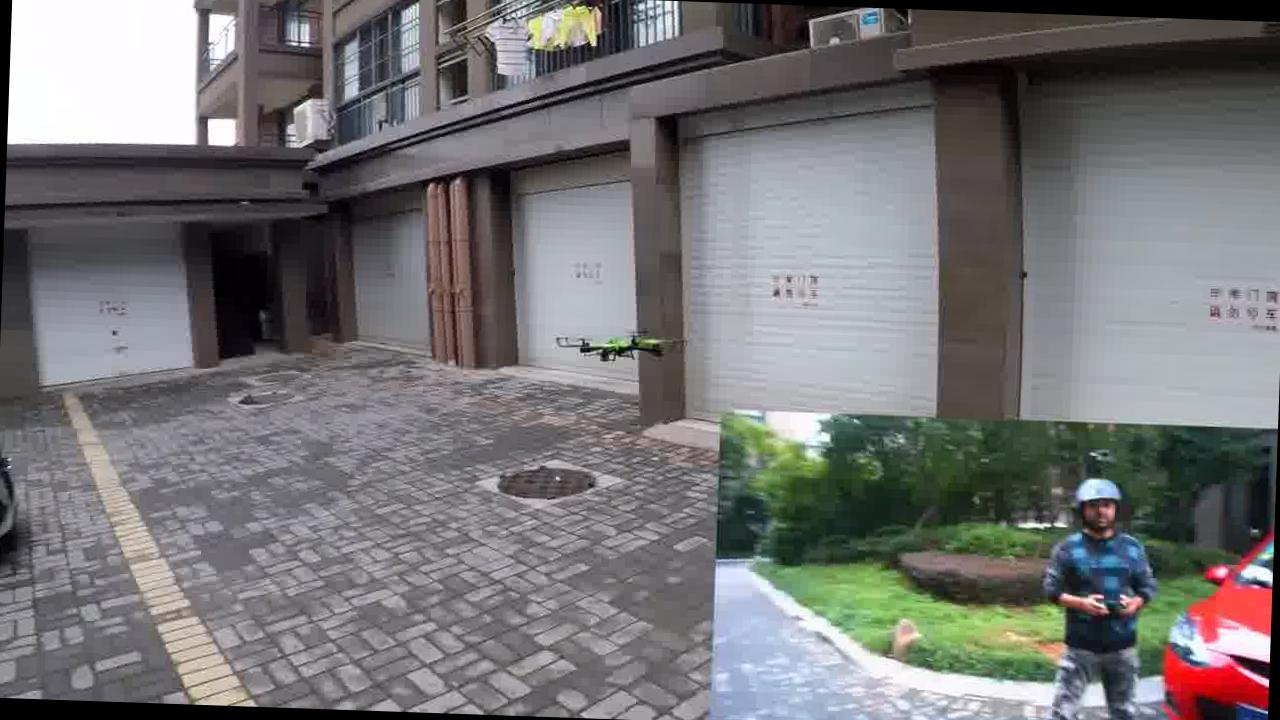drone: (553, 326, 688, 366)
